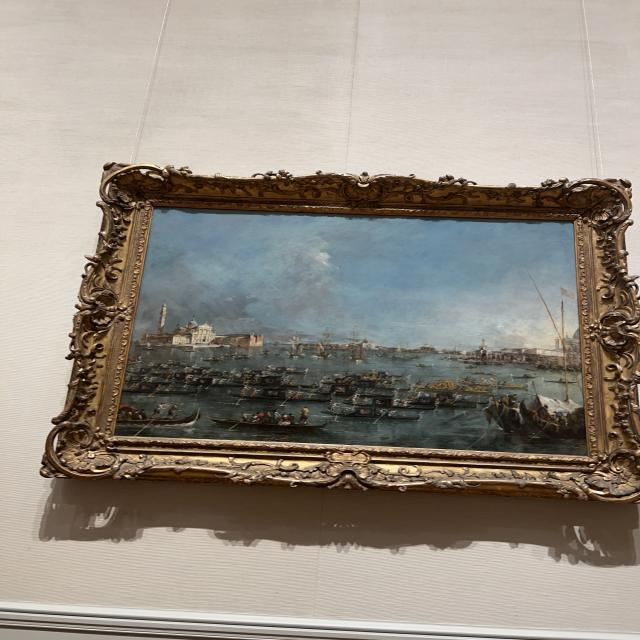ships: (120, 219, 576, 448)
